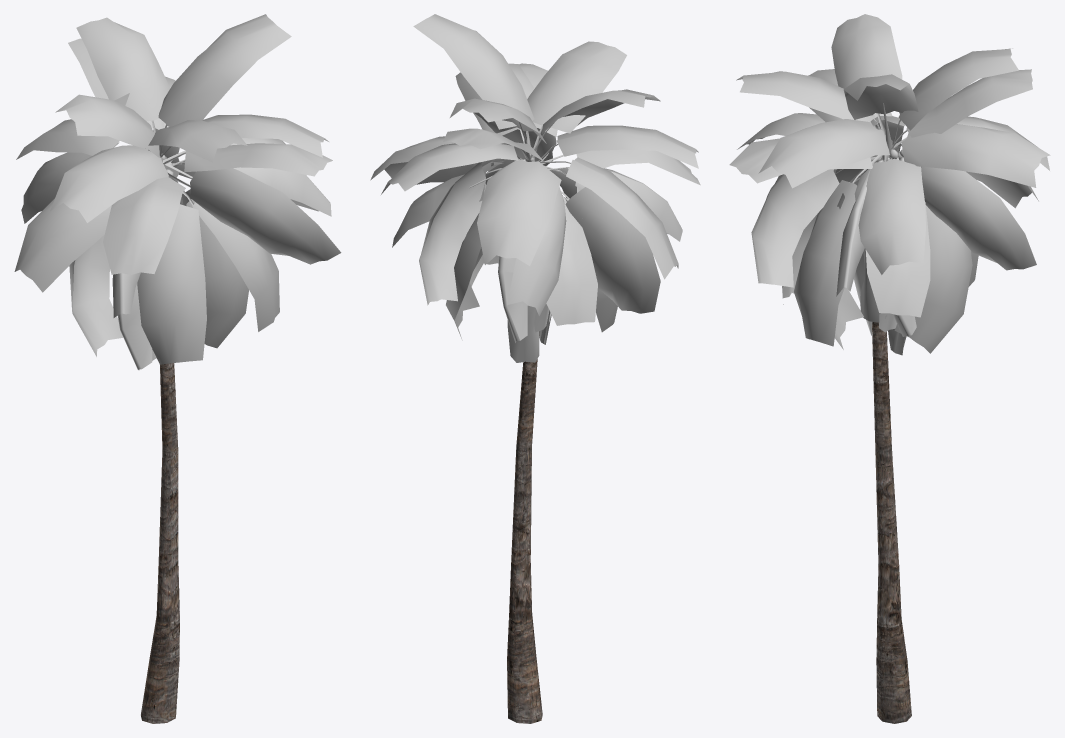
The model's file is Coconut.FBX.
3 renders of one model, left to right at view 1: azimuth 30°, elevation 25°; view 2: azimuth 150°, elevation 25°; view 3: azimuth 270°, elevation 25°, orthographic. The views are drawn at different scales.
Parts seen in each view (by area): view 1: Coconut; view 2: Coconut; view 3: Coconut.
Boxes of the visible parts, x1=… form: Coconut: x1=14, y1=14, x2=341, y2=723; Coconut: x1=370, y1=14, x2=700, y2=723; Coconut: x1=729, y1=14, x2=1050, y2=723.
Bounding box in the file's own units: 41.43 × 91.97 × 39.22.
